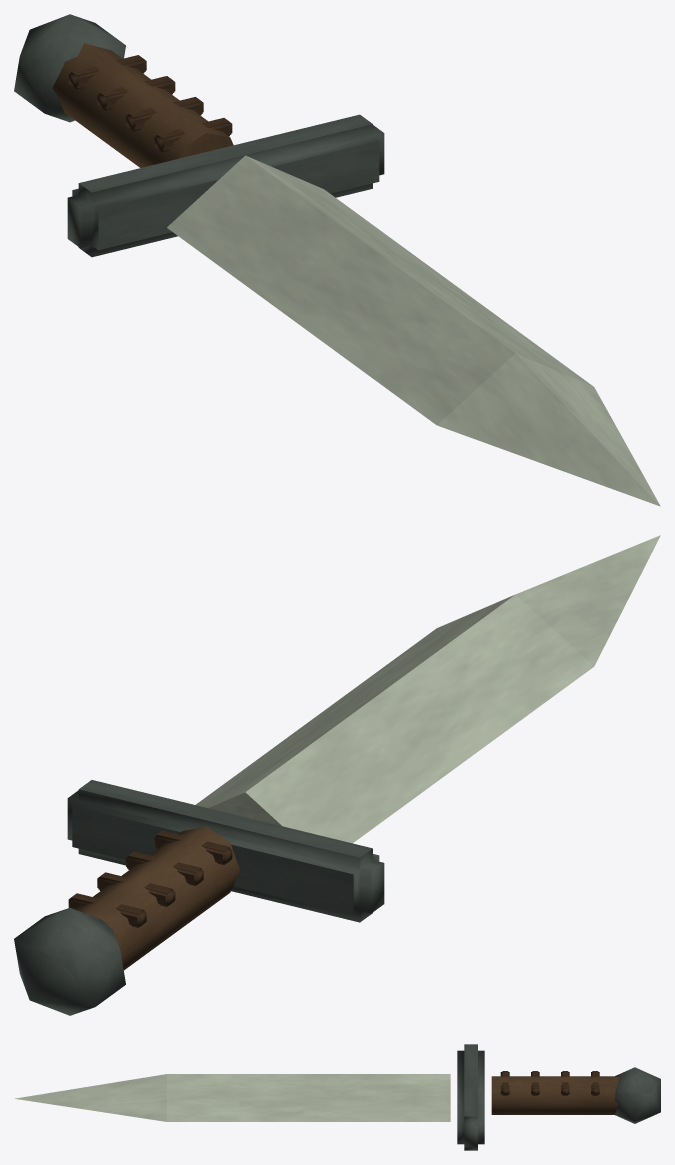
The model's file is item-LongSword.fbx.
3 renders of one model, top to bottom at view 1: azimuth 30°, elevation 25°; view 2: azimuth 150°, elevation 25°; view 3: azimuth 270°, elevation 25°, orthographic. The views are drawn at different scales.
Parts seen in each view (by area): view 1: item-LongSword__Geometry; view 2: item-LongSword__Geometry; view 3: item-LongSword__Geometry.
Boxes of the visible parts, x1=… form: item-LongSword__Geometry: x1=14, y1=14, x2=660, y2=506; item-LongSword__Geometry: x1=14, y1=535, x2=660, y2=1015; item-LongSword__Geometry: x1=15, y1=1044, x2=660, y2=1150.
Size of the model in its own units: 0.27 by 0.092 by 0.9483.
1 material, 1 textured.
